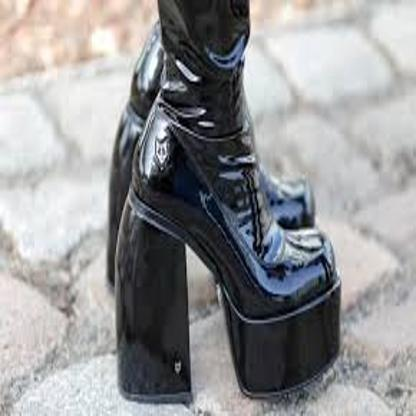not trash: (99, 26, 340, 404)
